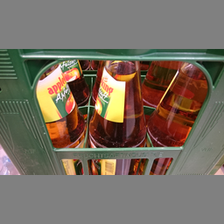juice: (142, 63, 207, 173), (24, 60, 85, 174), (88, 60, 147, 173)
